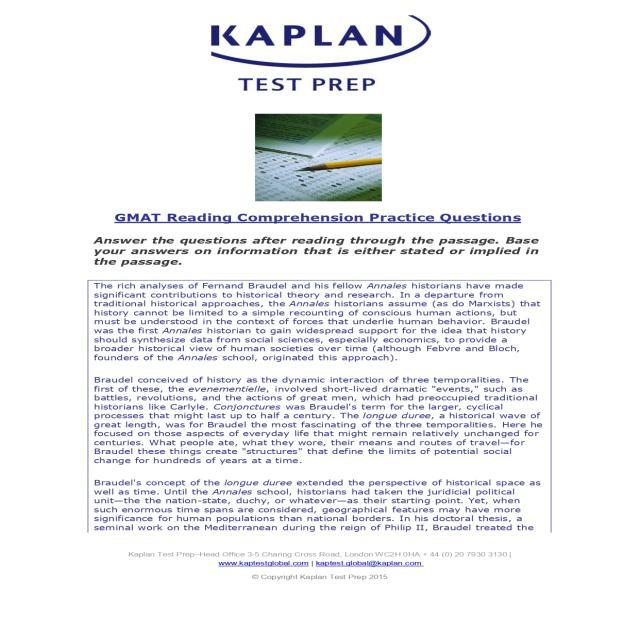Instruction: (82, 231, 560, 546)
Question_Paper_Area: (82, 231, 560, 546)
